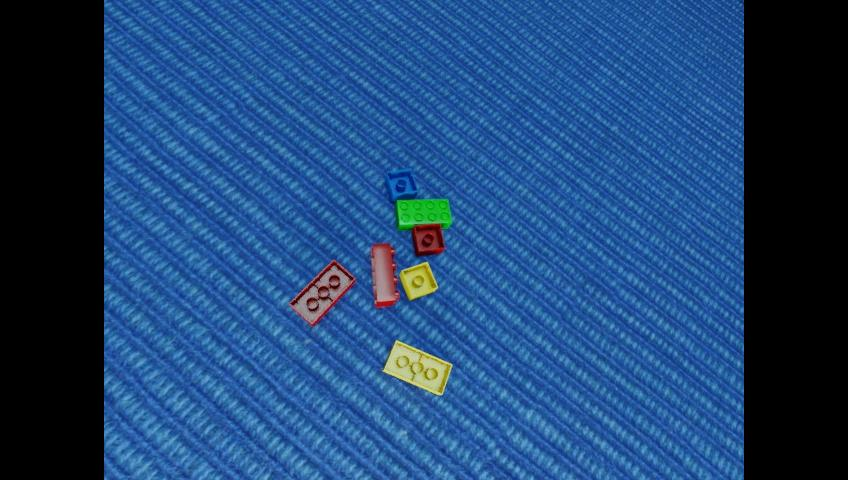2x2_blue: (384, 167, 417, 201)
2x2_red: (411, 222, 444, 255)
2x2_yellow: (399, 261, 437, 300)
4x2_green: (394, 198, 451, 230)
4x2_red: (289, 258, 354, 326), (370, 242, 398, 306)
4x2_yellow: (382, 340, 451, 394)
